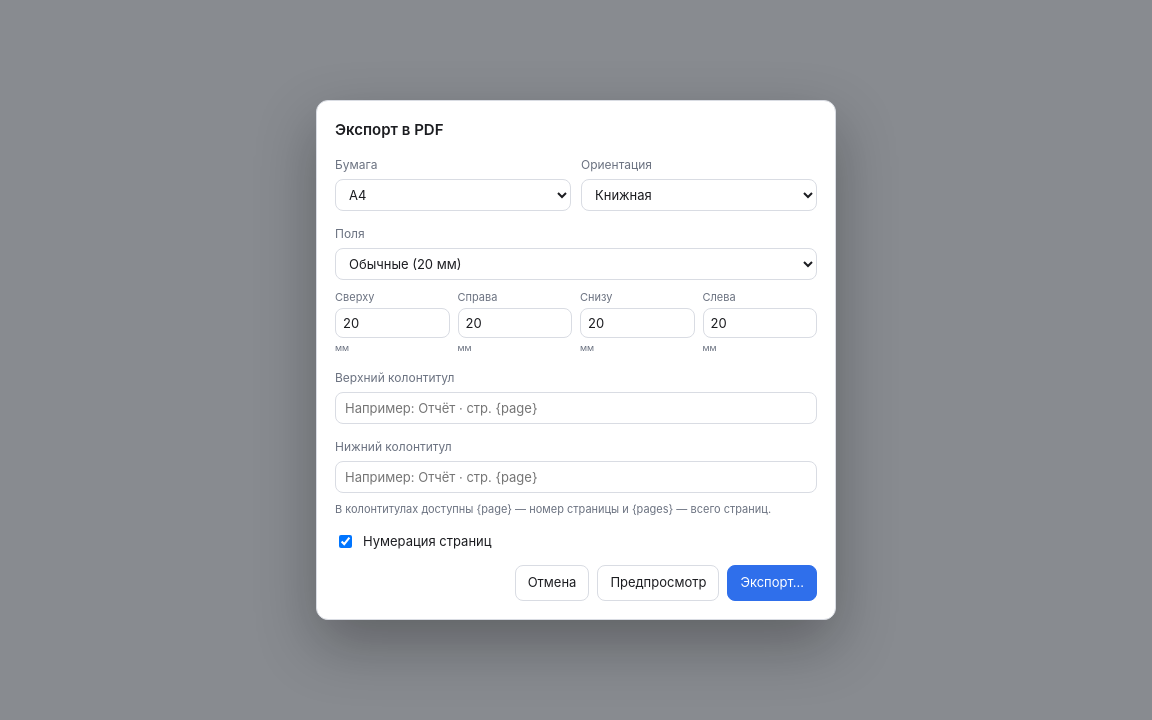
PdfExportDialog › применяет пресет полей и правит отдельное поле
The width and height of the screenshot is (1152, 720).
Later steps or results of the test are not shown.
Select "Узкие (12 мм)" in the dropdown named "Пресет полей". click: (576,264)
box: left=335, top=248, right=817, bottom=280
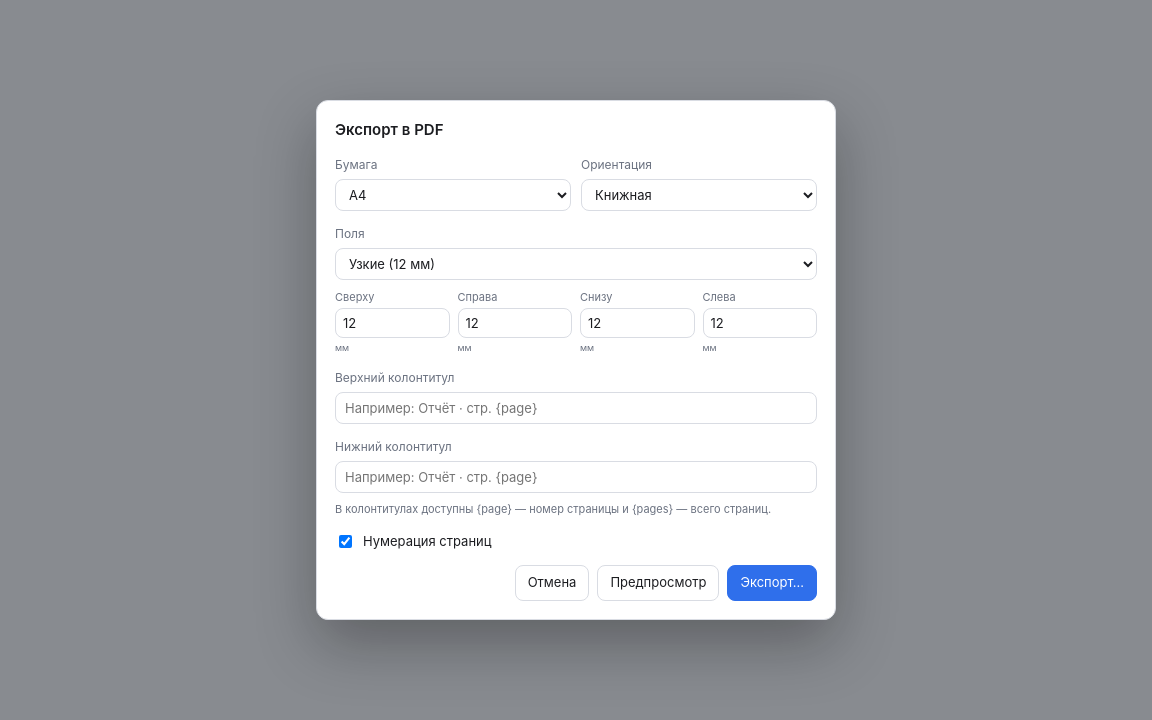
expect the number field labelled "Сверху" holds "12": met, box left=335, top=308, right=450, bottom=338
